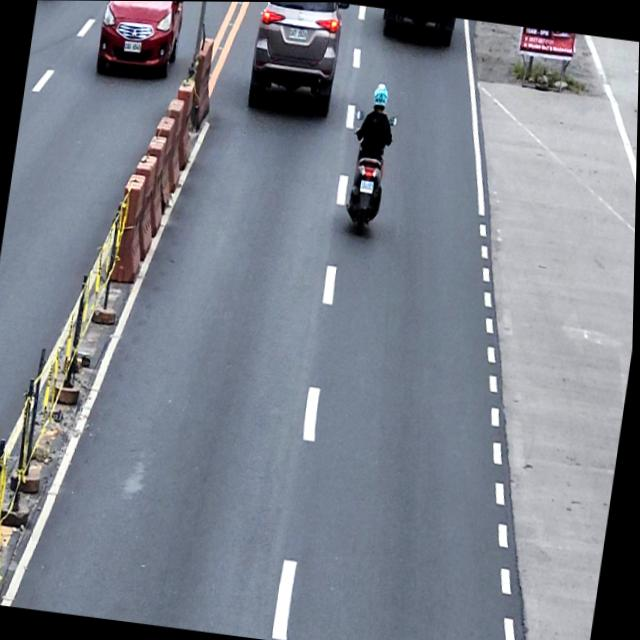Car: (242, 1, 349, 117), (91, 1, 187, 81)
License-Plate: (287, 26, 308, 40), (123, 39, 142, 53), (360, 179, 375, 193)
Motorcycle: (340, 107, 398, 236)
